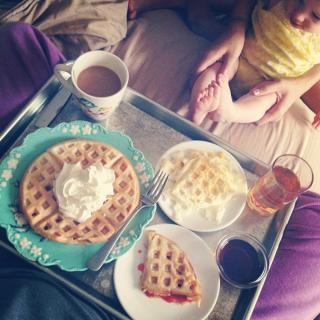Waffle: (20, 140, 139, 244), (140, 228, 202, 309), (171, 152, 236, 208)
